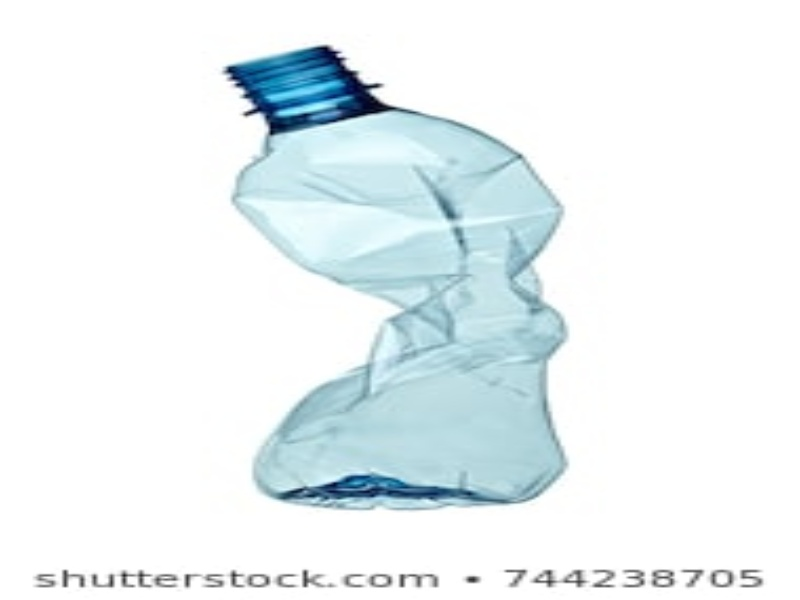plastic-bottle: (218, 39, 587, 514)
